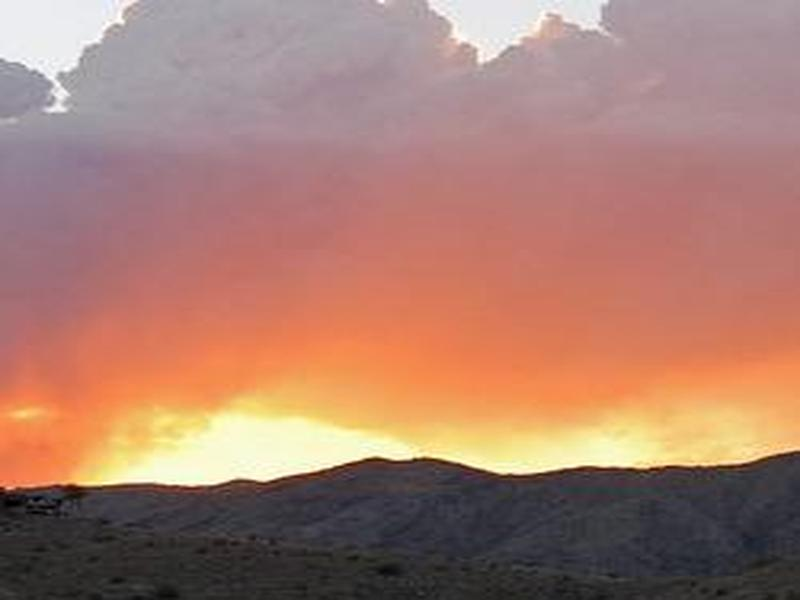FIRE: (45, 384, 595, 523)
